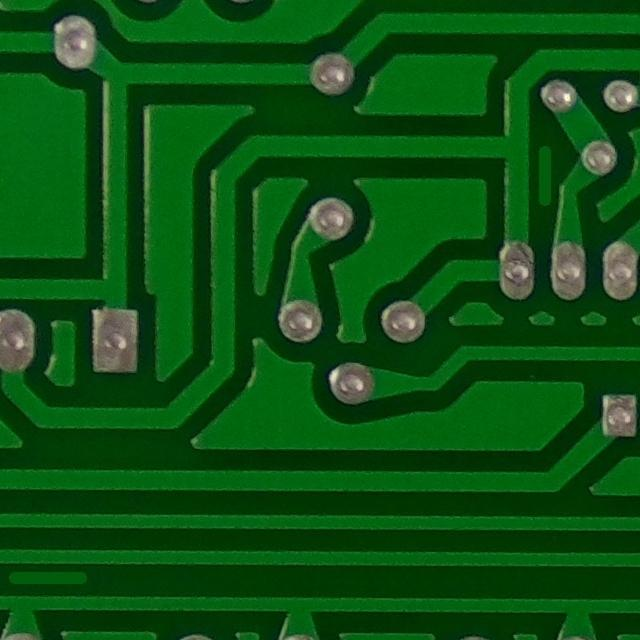spurious_copper: (0, 555, 95, 604)
